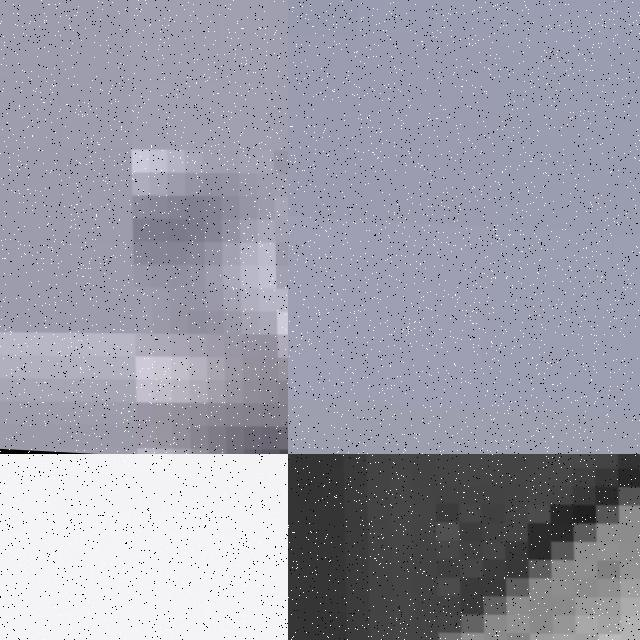0: (0, 0, 288, 454)
drone: (288, 454, 640, 640), (0, 454, 288, 640)
